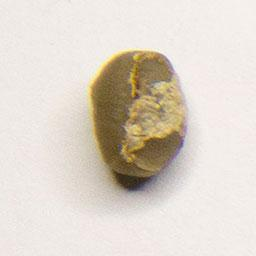peaberry: (85, 44, 192, 186)
